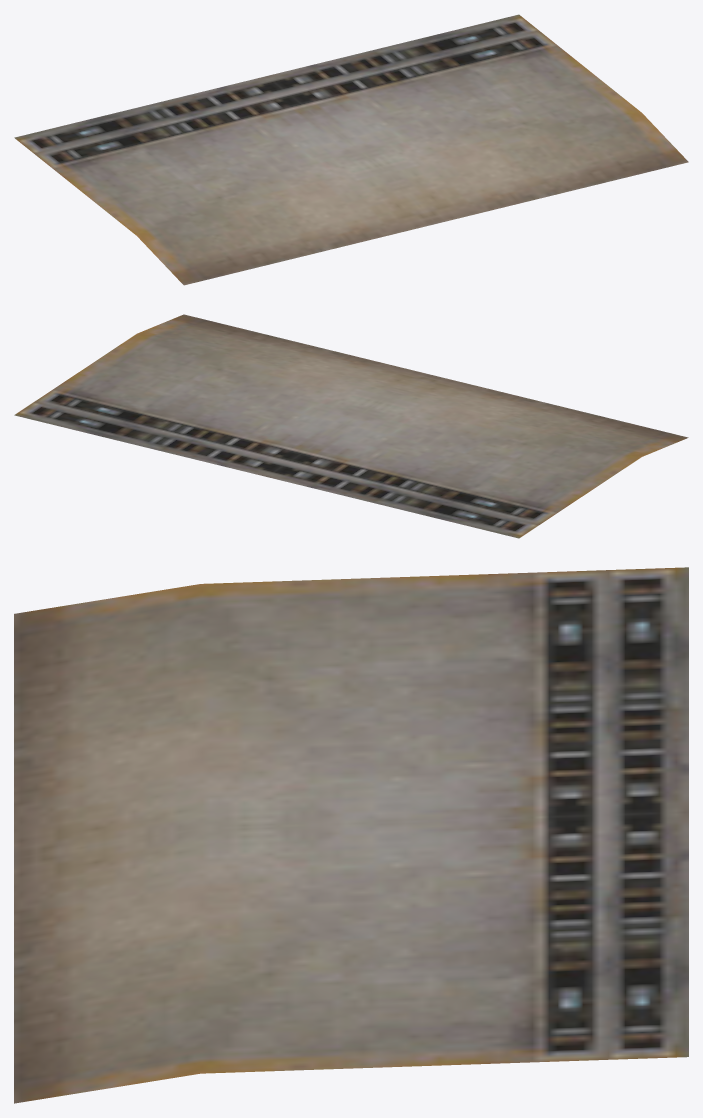
The model's file is zc_lekesigang_pinjieqiang05.FBX.
3 renders of one model, top to bottom at view 1: azimuth 30°, elevation 25°; view 2: azimuth 150°, elevation 25°; view 3: azimuth 270°, elevation 25°, orthographic. The views are drawn at different scales.
Visible parts, largest first — view 1: zc_lekesigang_pinjieqiang05; view 2: zc_lekesigang_pinjieqiang05; view 3: zc_lekesigang_pinjieqiang05.
Part boxes in pixels (x1,y1,x2,y2): zc_lekesigang_pinjieqiang05: (14, 14, 688, 285); zc_lekesigang_pinjieqiang05: (14, 314, 688, 538); zc_lekesigang_pinjieqiang05: (14, 567, 688, 1103).
Bounding box in the file's own units: 318 × 14.11 × 185.
1 material, 1 textured.
